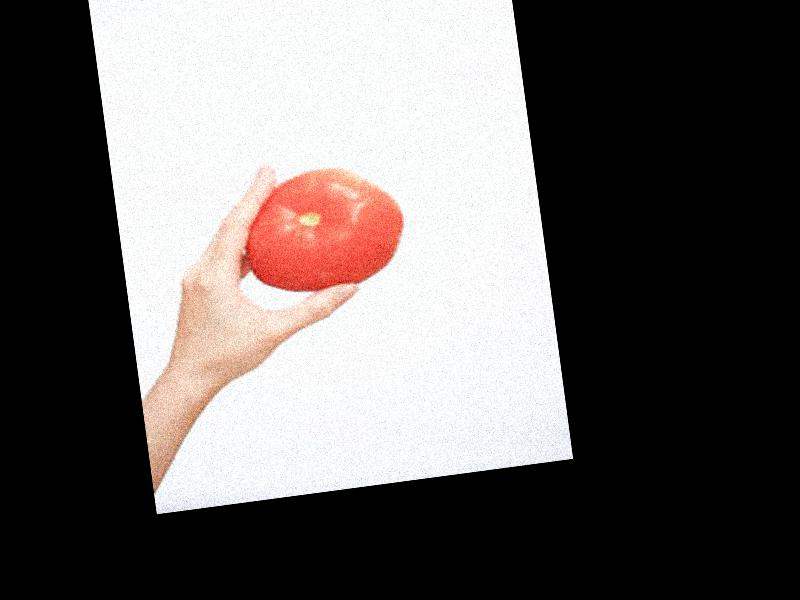Tomato: (240, 159, 409, 298)
